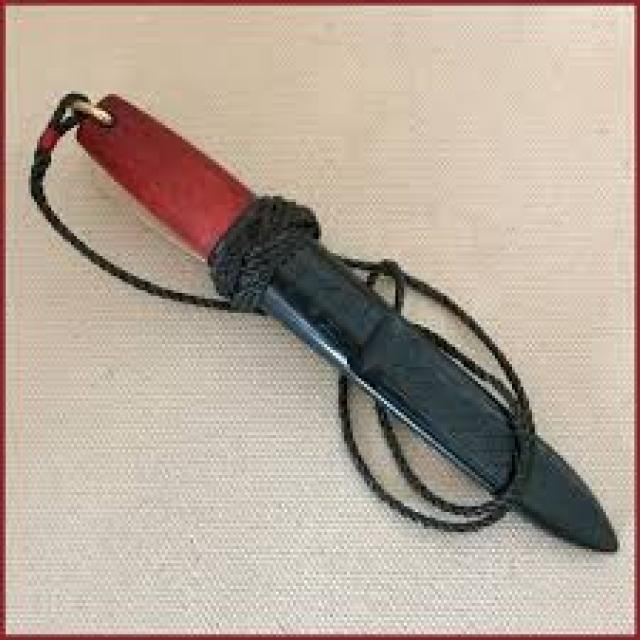Gun: (10, 69, 617, 562)
